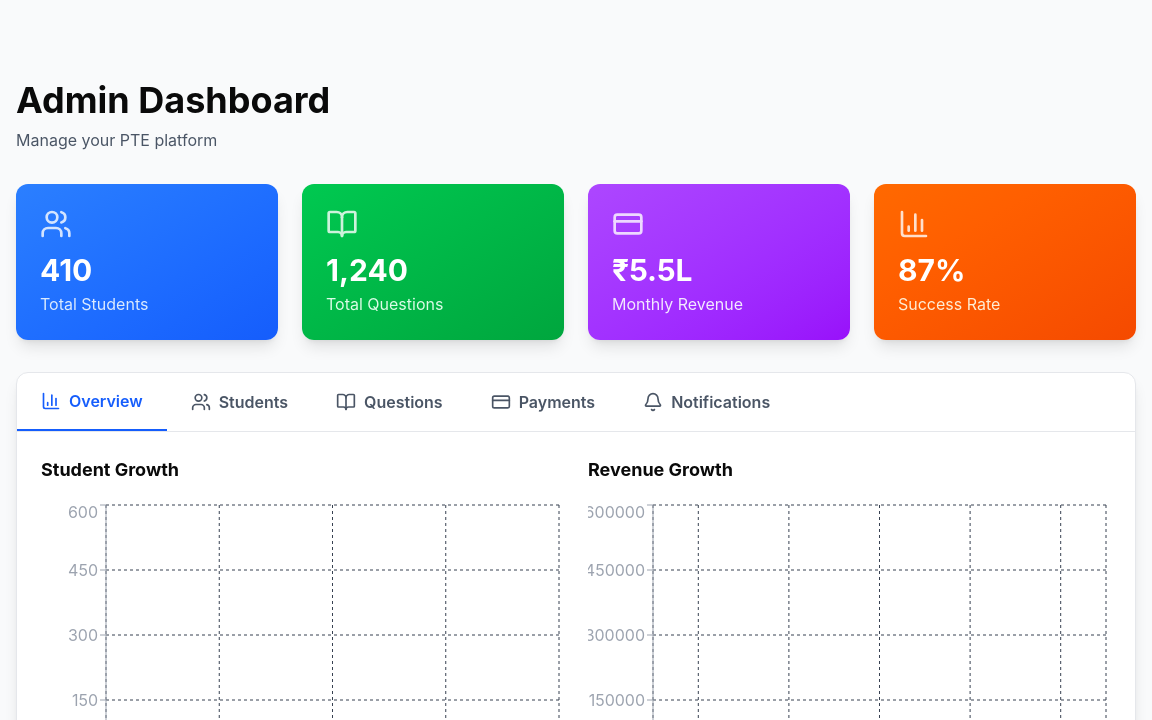
Test: AdminPanel › filters students by search term
Click the button "Students": (239, 402) [167,373,312,431]
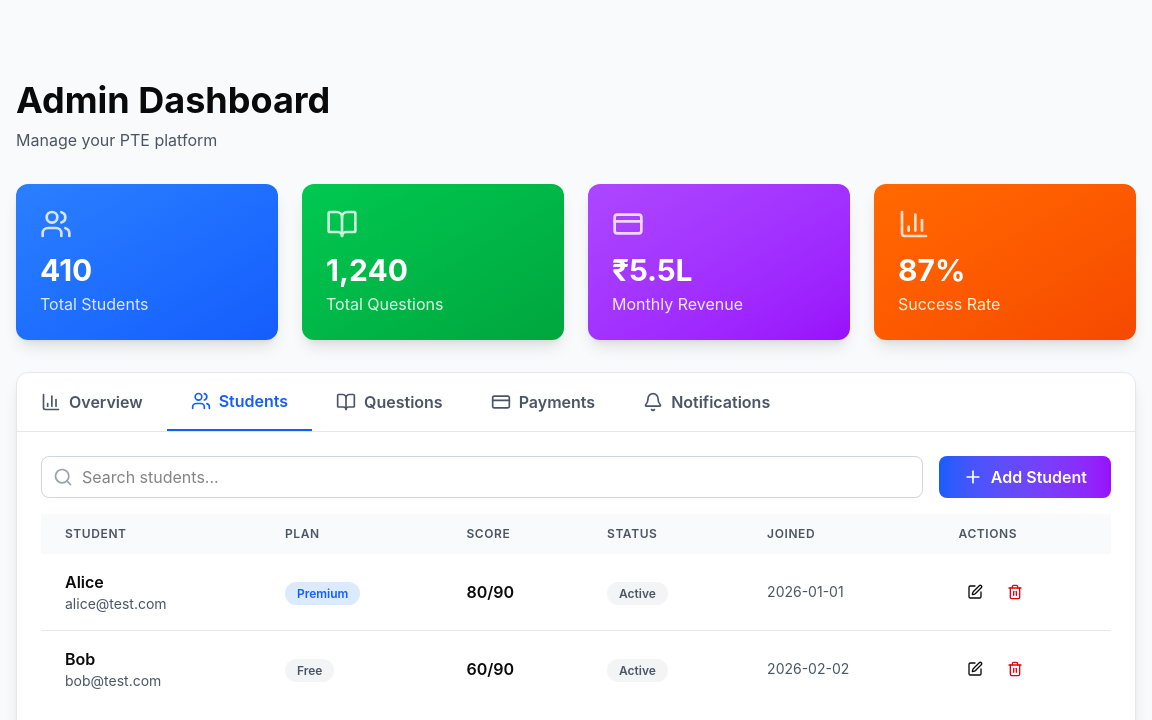
Check: the text "Alice" is shown, box [65,572,104,592]
In the field with placeholder "Search students...": (482, 477) [41,456,923,498], type "alice"
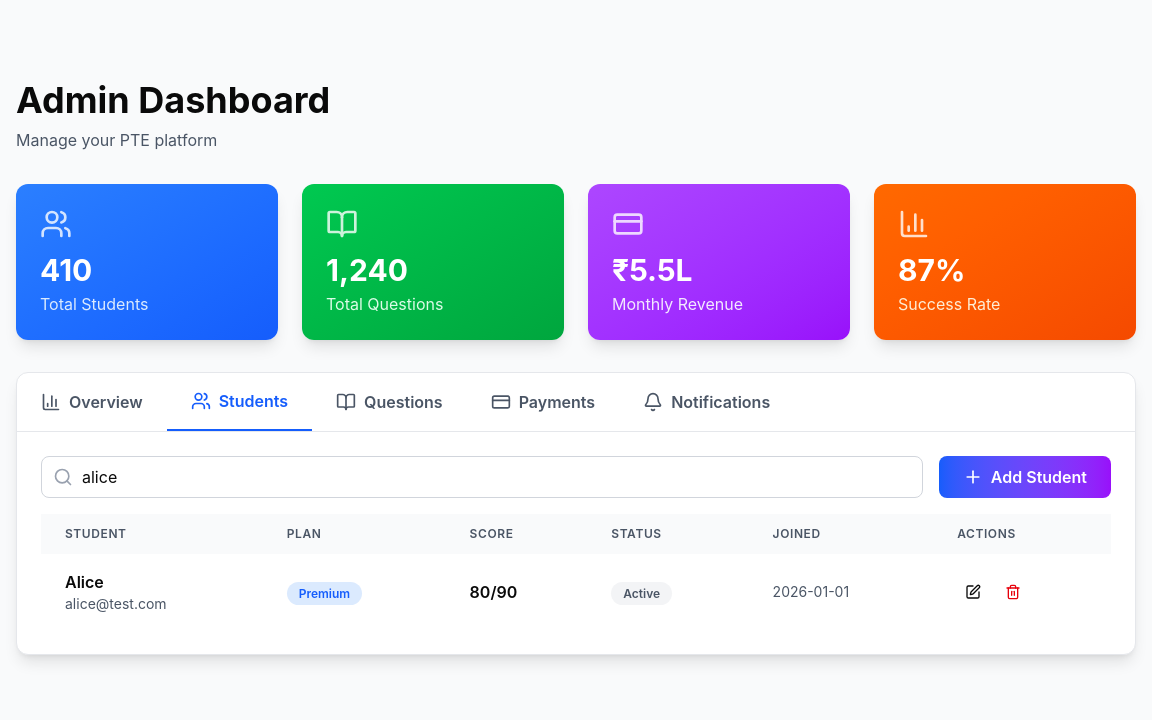
Check: the text "Alice" is shown, box [65,572,104,592]
Check: the text "Bob" is gone
